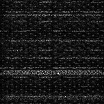lte: (1, 69, 104, 75), (1, 13, 104, 16), (1, 38, 104, 41), (1, 10, 104, 12)
